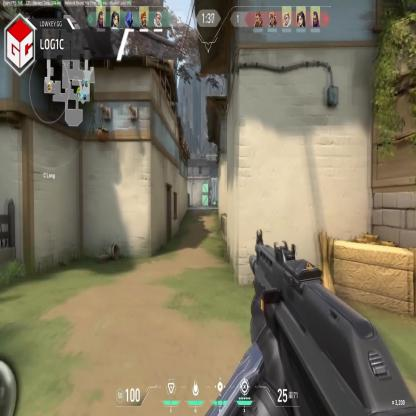enemy: (208, 193, 212, 207)
enemy_head: (209, 194, 210, 197)
